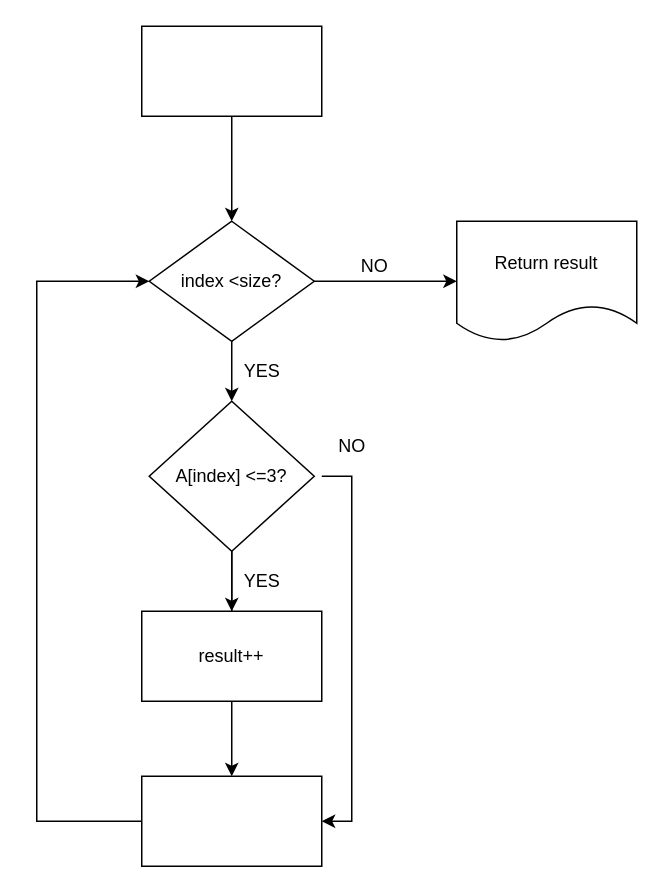
This 663x893 diagram has some shape labels left out. Each missing label, with the centre of its shape:
A = input[ ]; result = 0, index = 0;: (231,70)
index++: (231,820)
